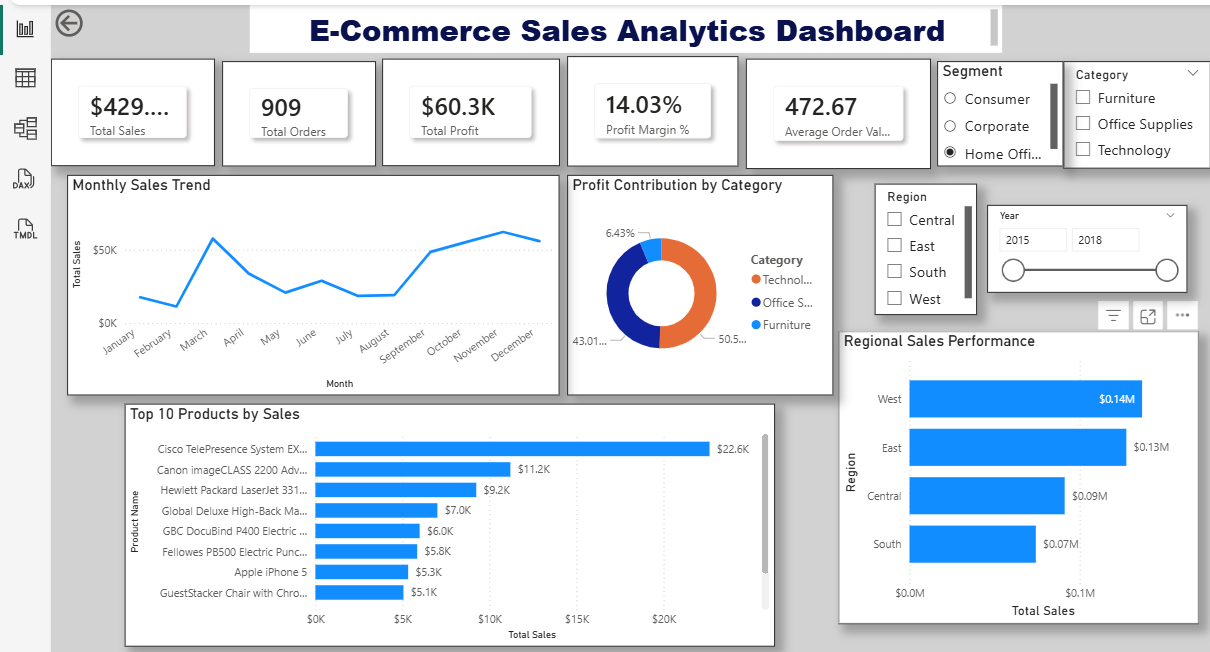

The page's visual inventory and layout, read from the dashboard file:
{"tool":"powerbi","page":{"name":"Executive Overview","canvas":[1280,720],"ordinal":0},"visuals":[{"type":"cardVisual","fields":{"Data":["Orders.Total Sales"]},"box":[0,59.3,180.7,118.6],"z":0},{"type":"cardVisual","fields":{"Data":["Orders.Total Orders"]},"box":[188.5,62.1,169.7,115.9],"z":1000},{"type":"cardVisual","fields":{"Data":["Orders.Total Profit"]},"box":[366,59.3,195.9,118.6],"z":2000},{"type":"cardVisual","fields":{"Data":["Orders.Profit Margin %"]},"box":[569.8,56.6,189,121.4],"z":3000},{"type":"cardVisual","fields":{"Data":["Orders.Average Order Value"]},"box":[766.4,59.3,204.2,121.4],"z":4000},{"type":"barChart","title":"Regional Sales Performance","fields":{"Category":["Orders.Region"],"Y":["Orders.Total Sales"]},"box":[869.2,360.1,397.3,322.8],"z":5000},{"type":"donutChart","title":"Profit Contribution by Category","fields":{"Category":["Orders.Category"],"Y":["Orders.Total Profit"]},"box":[569.8,187.6,293.9,242.8],"z":6000},{"type":"actionButton","box":[0,0,100,40],"z":7000},{"type":"lineChart","title":"Monthly Sales Trend","fields":{"Category":["DateTable.Month"],"Y":["Orders.Total Sales"]},"box":[17.9,187.6,543.6,242.8],"z":8000},{"type":"clusteredBarChart","title":"Top 10 Products by Sales","fields":{"Category":["Orders.Product Name"],"Y":["Orders.Total Sales"]},"box":[81.4,440.1,717.4,267.6],"z":9000},{"type":"textbox","box":[219.4,0,830.5,52.4],"z":10000},{"type":"slicer","fields":{"Values":["Orders.Category"]},"box":[1117.5,62.1,162.8,118.6],"z":11000},{"type":"slicer","fields":{"Values":["Orders.Region"]},"box":[909.2,197.3,113.1,144.9],"z":12000},{"type":"listSlicer","fields":{"Values":["Orders.Segment"]},"box":[978.4,62.1,139.3,115.9],"z":13000},{"type":"slicer","fields":{"Values":["DateTable.Year"]},"box":[1033.3,220.7,220.7,96.6],"z":14000}]}

Visuals, with their boxes on the page's 1280x720 design canvas (x1, y1, x2, y2). These are canvas units, not pixel positions in the 1210x652 screenshot, which may show the page scaled, cropped or inside an application window:
cardVisual - Orders.Total Sales: pyautogui.locateOnScreen(0, 59, 181, 178)
cardVisual - Orders.Total Orders: pyautogui.locateOnScreen(188, 62, 358, 178)
cardVisual - Orders.Total Profit: pyautogui.locateOnScreen(366, 59, 562, 178)
cardVisual - Orders.Profit Margin %: pyautogui.locateOnScreen(570, 57, 759, 178)
cardVisual - Orders.Average Order Value: pyautogui.locateOnScreen(766, 59, 971, 181)
"Regional Sales Performance" barChart: pyautogui.locateOnScreen(869, 360, 1266, 683)
"Profit Contribution by Category" donutChart: pyautogui.locateOnScreen(570, 188, 864, 430)
actionButton: pyautogui.locateOnScreen(0, 0, 100, 40)
"Monthly Sales Trend" lineChart: pyautogui.locateOnScreen(18, 188, 562, 430)
"Top 10 Products by Sales" clusteredBarChart: pyautogui.locateOnScreen(81, 440, 799, 708)
textbox: pyautogui.locateOnScreen(219, 0, 1050, 52)
slicer - Orders.Category: pyautogui.locateOnScreen(1118, 62, 1280, 181)
slicer - Orders.Region: pyautogui.locateOnScreen(909, 197, 1022, 342)
listSlicer - Orders.Segment: pyautogui.locateOnScreen(978, 62, 1118, 178)
slicer - DateTable.Year: pyautogui.locateOnScreen(1033, 221, 1254, 317)
